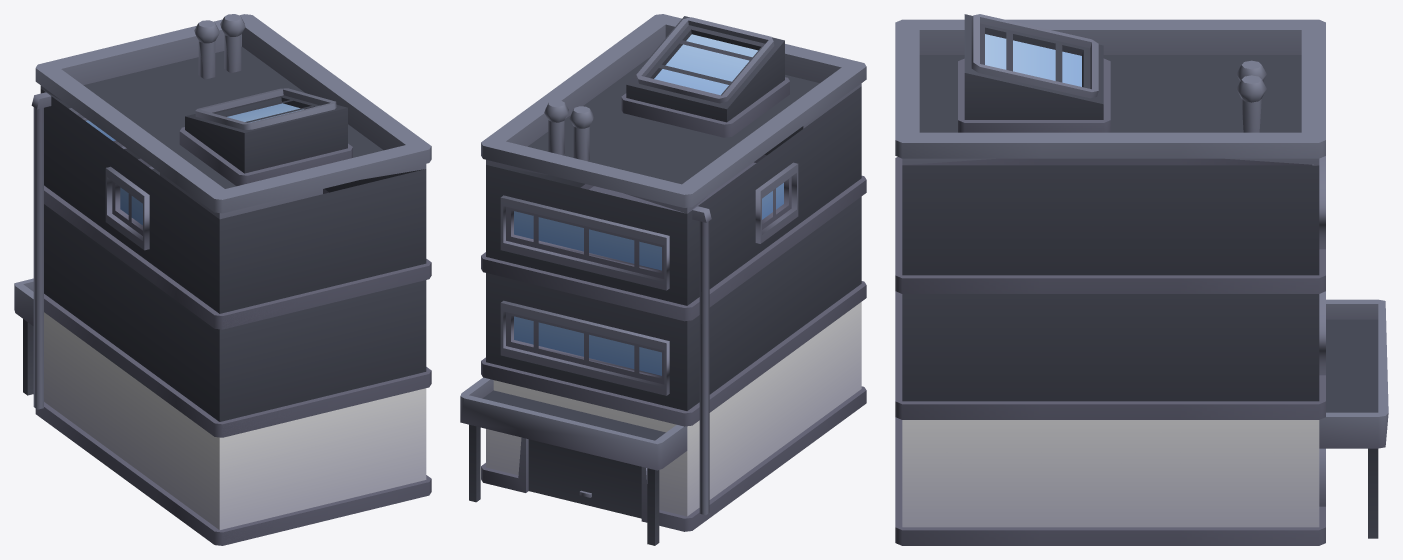
File: works-d.glb
The picture shows the model from 3 angles, left to right: view 1: azimuth 30°, elevation 25°; view 2: azimuth 150°, elevation 25°; view 3: azimuth 270°, elevation 25°; orthographic projection. The views are drawn at different scales.
Parts seen in each view (by area): view 1: building-d; view 2: building-d; view 3: building-d.
Boxes of the visible parts, bbox=[...] form: building-d: bbox=[14, 14, 431, 545]; building-d: bbox=[460, 14, 866, 545]; building-d: bbox=[895, 14, 1388, 545].
Bounding box in the file's own units: 0.876 × 1.41 × 1.42.
1 material, 1 textured.
